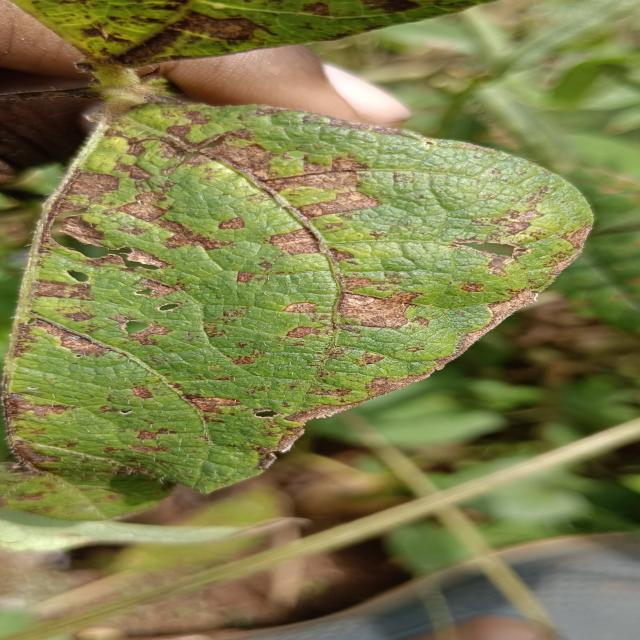Black gram_leaf spot: (0, 100, 607, 524)
